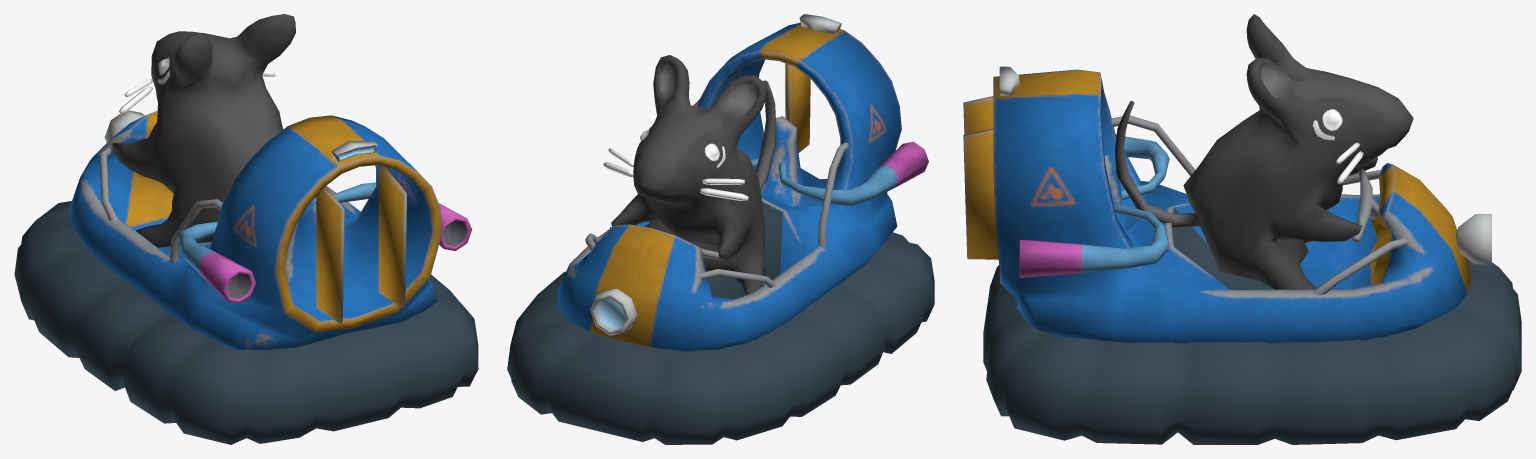
Rendered from xue.glb.
The picture shows the model from 3 angles, left to right: view 1: azimuth 30°, elevation 25°; view 2: azimuth 150°, elevation 25°; view 3: azimuth 270°, elevation 25°; orthographic projection. The views are drawn at different scales.
Visible parts, largest first — view 1: xue-2_Albedo.png__, mouse_texture.png__; view 2: xue-2_Albedo.png__, mouse_texture.png__; view 3: xue-2_Albedo.png__, mouse_texture.png__.
Boxes of the visible parts, x1,y1,x2,y2 form: xue-2_Albedo.png__: (14, 110, 478, 444); mouse_texture.png__: (112, 14, 295, 247); xue-2_Albedo.png__: (507, 14, 934, 444); mouse_texture.png__: (603, 55, 776, 295); xue-2_Albedo.png__: (963, 66, 1521, 444); mouse_texture.png__: (1115, 14, 1413, 289).
Size of the model in its own units: 1.01 by 0.945 by 1.45.
Materials: 2 (2 with a texture image).
